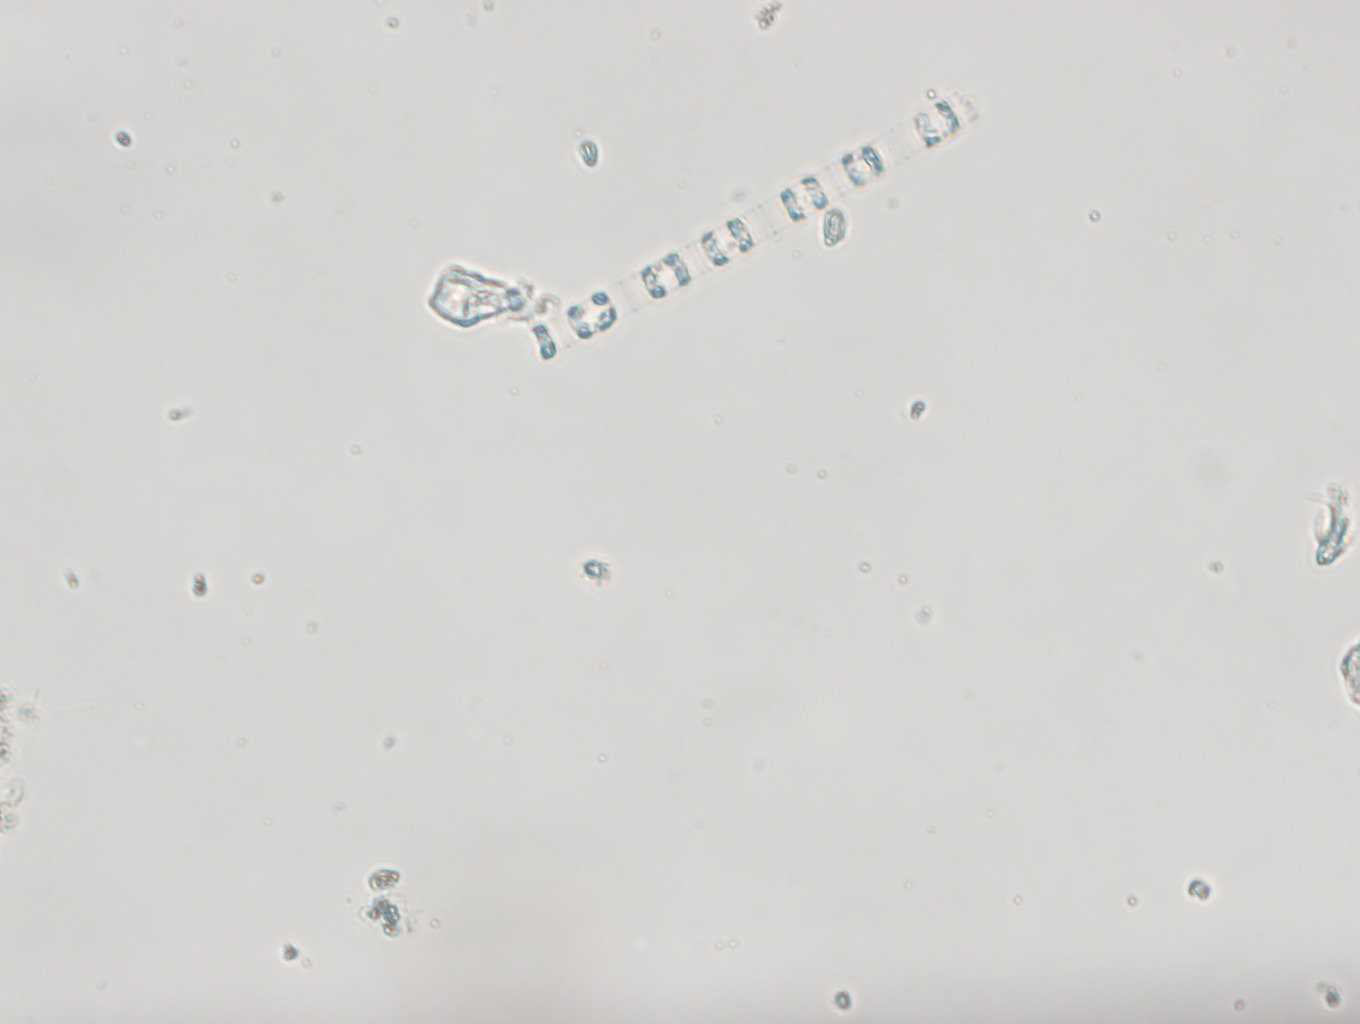skeletonema: (514, 77, 984, 372)
